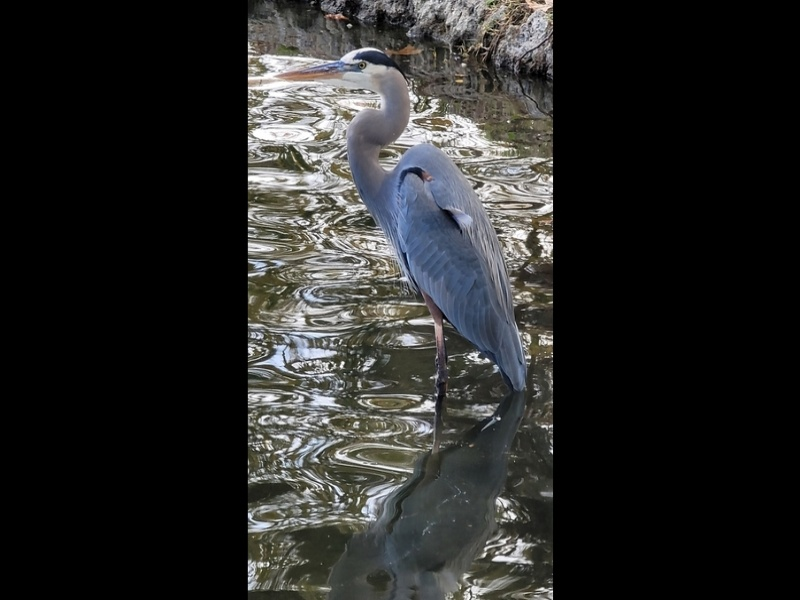heron: (276, 47, 530, 395)
